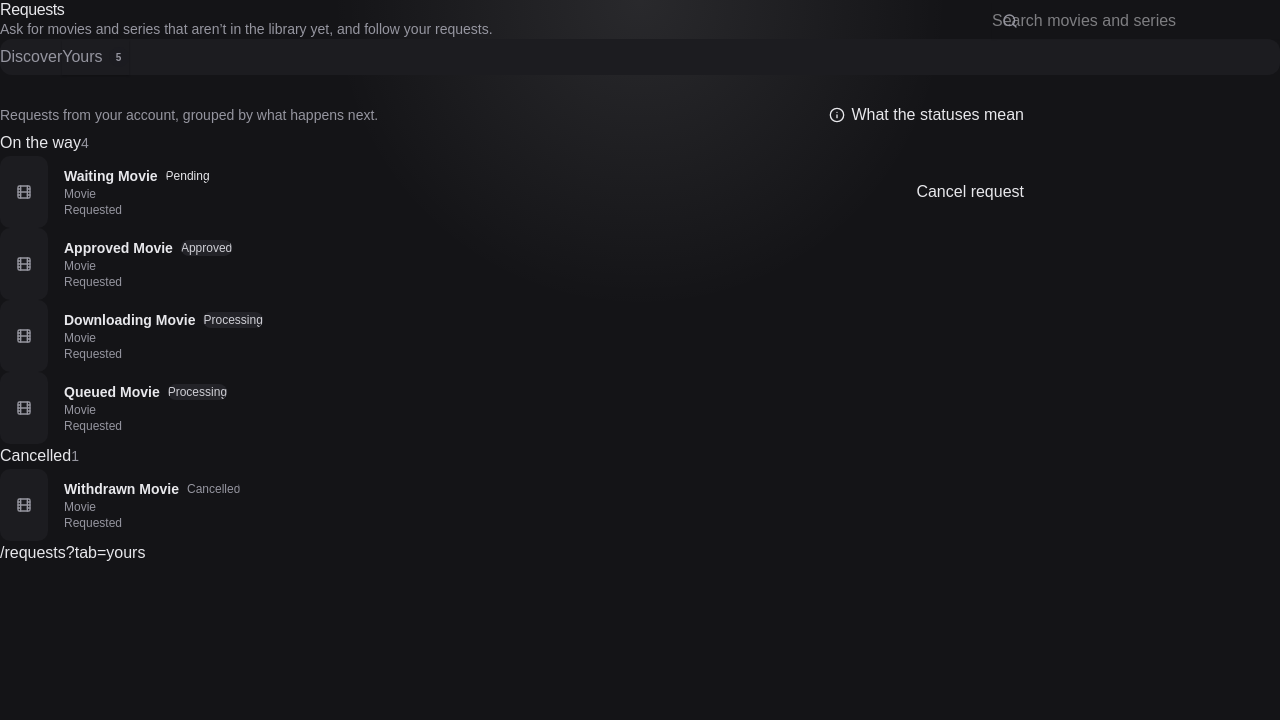
Requests (Yours list) › keeps the request when the viewer backs out
The width and height of the screenshot is (1280, 720).
Click the button with aria-label "Cancel request for Waiting Movie" at [970, 192], box [916, 176, 1024, 208]
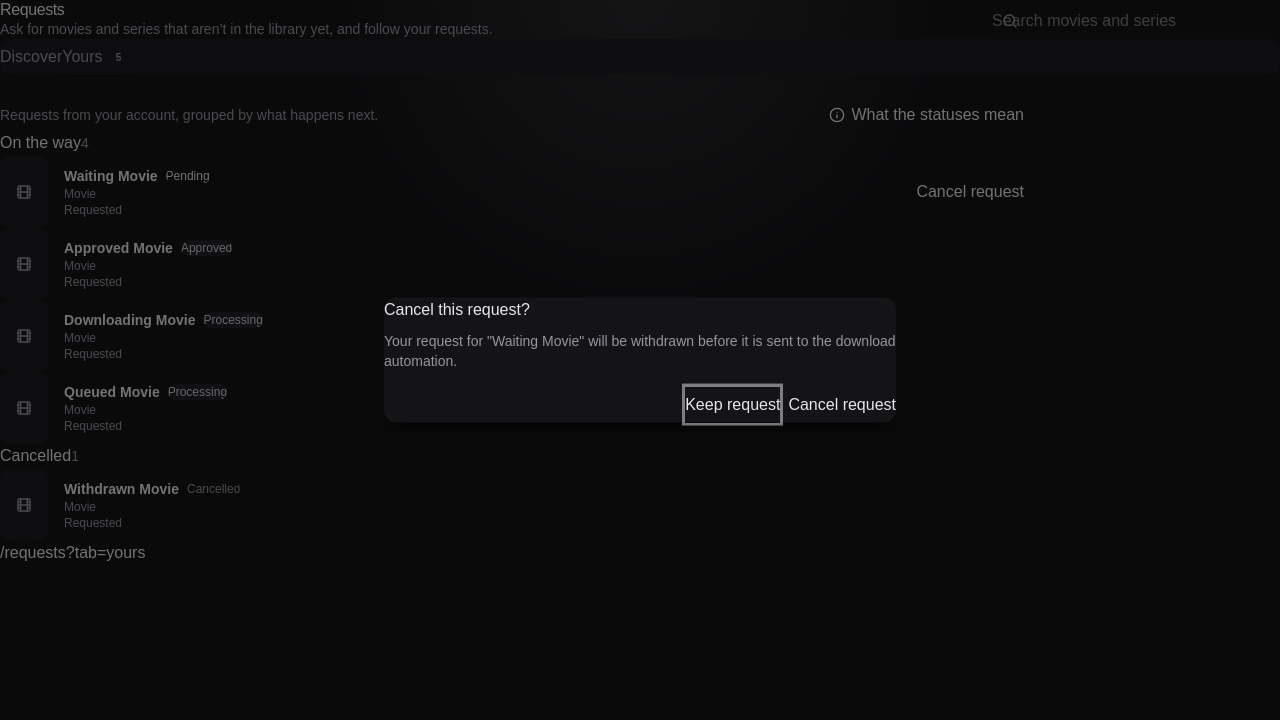
Click the button "Keep request" at [733, 404], box [685, 386, 780, 422]
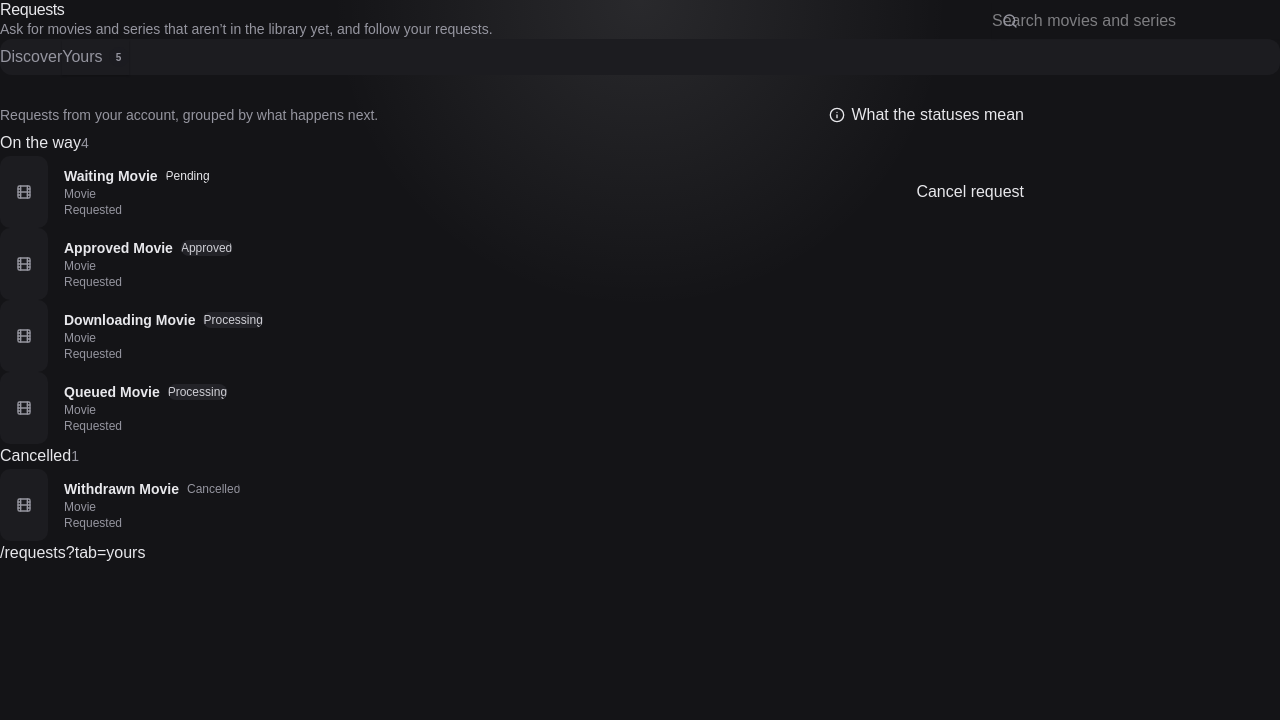
Expected: the dialog is gone
